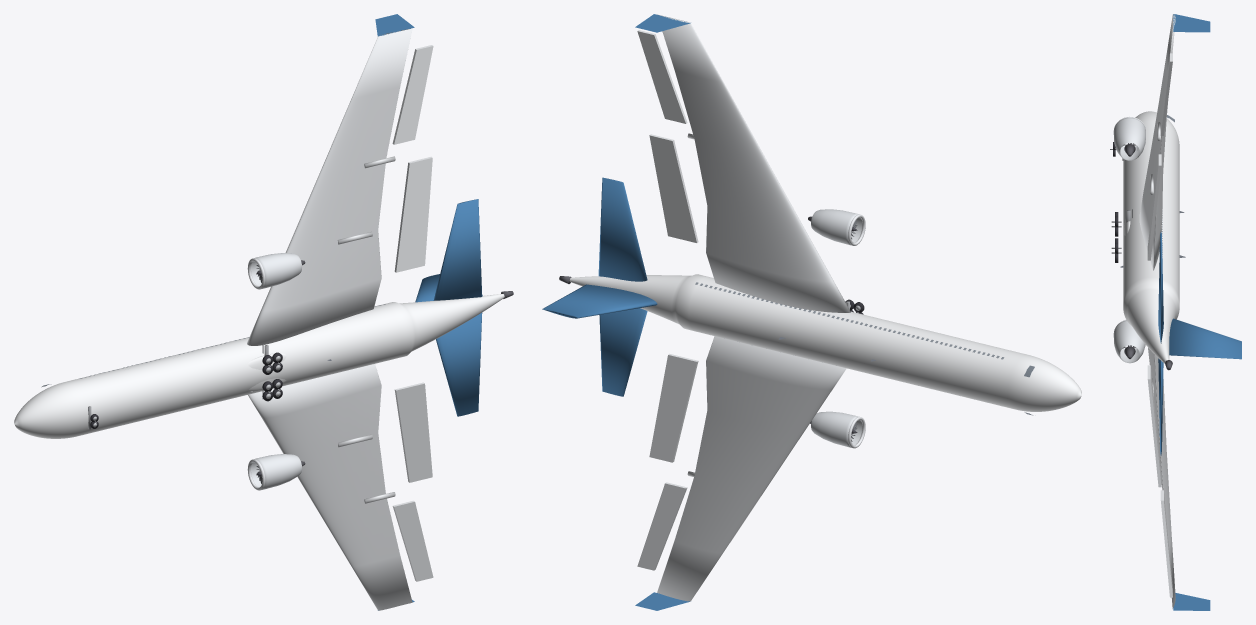
3 renders of one model, left to right at view 1: azimuth 30°, elevation 25°; view 2: azimuth 150°, elevation 25°; view 3: azimuth 270°, elevation 25°, orthographic.
Visible parts, largest first — view 1: Fuselage, Wing_R, Wing_L, HStab_R, HStab_L, Flap_R, Flap_L, Aileron_R, Aileron_L, Nacelle_-1_0, Nacelle_1_0; view 2: Fuselage, Wing_L, Wing_R, HStab_R, Flap_L, HStab_L, Flap_R, Fin, Aileron_L, Aileron_R, Nacelle_1_0, Nacelle_-1_0; view 3: Fuselage, Wing_R, Fin, Wing_L, Nacelle_1_0, Nacelle_-1_0, Flap_L, Sharklet_R, Sharklet_L, Flap_R, Aileron_L, HStab_R (+2 smaller).
Part boxes in pixels (left/top/right/bottom): Fuselage: left=14, top=294, right=504, bottom=438; Wing_R: left=247, top=28, right=412, bottom=345; Wing_L: left=248, top=364, right=412, bottom=610; HStab_R: left=433, top=199, right=482, bottom=300; HStab_L: left=436, top=312, right=482, bottom=416; Flap_R: left=394, top=156, right=432, bottom=272; Flap_L: left=394, top=382, right=432, bottom=482; Aileron_R: left=392, top=45, right=433, bottom=144; Aileron_L: left=392, top=500, right=433, bottom=581; Nacelle_-1_0: left=251, top=454, right=301, bottom=489; Nacelle_1_0: left=251, top=253, right=301, bottom=288; Fuselage: left=569, top=274, right=1081, bottom=411; Wing_L: left=657, top=336, right=846, bottom=601; Wing_R: left=657, top=14, right=850, bottom=312; HStab_R: left=598, top=177, right=647, bottom=281; Flap_L: left=649, top=353, right=698, bottom=462; HStab_L: left=599, top=308, right=647, bottom=396; Flap_R: left=649, top=134, right=698, bottom=242; Fin: left=542, top=284, right=657, bottom=318; Aileron_L: left=637, top=482, right=687, bottom=570; Aileron_R: left=637, top=30, right=687, bottom=123; Nacelle_1_0: left=811, top=209, right=862, bottom=245; Nacelle_-1_0: left=811, top=411, right=862, bottom=447; Fuselage: left=1123, top=111, right=1179, bottom=363; Wing_R: left=1139, top=14, right=1175, bottom=270; Fin: left=1169, top=318, right=1241, bottom=359; Wing_L: left=1148, top=347, right=1175, bottom=608; Nacelle_1_0: left=1113, top=117, right=1145, bottom=160; Nacelle_-1_0: left=1113, top=320, right=1145, bottom=363; Flap_L: left=1147, top=365, right=1161, bottom=487; Sharklet_R: left=1173, top=14, right=1210, bottom=32; Sharklet_L: left=1173, top=593, right=1210, bottom=610; Flap_R: left=1147, top=154, right=1161, bottom=260; Aileron_L: left=1160, top=490, right=1172, bottom=597; HStab_R: left=1158, top=232, right=1163, bottom=343.
Size of the model in its own units: 59.24 by 64 by 13.21.
